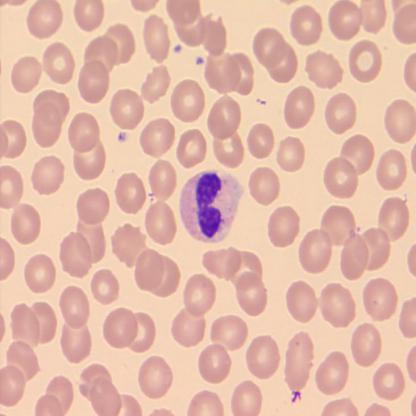Band Neutrophil: (176, 167, 245, 245)
